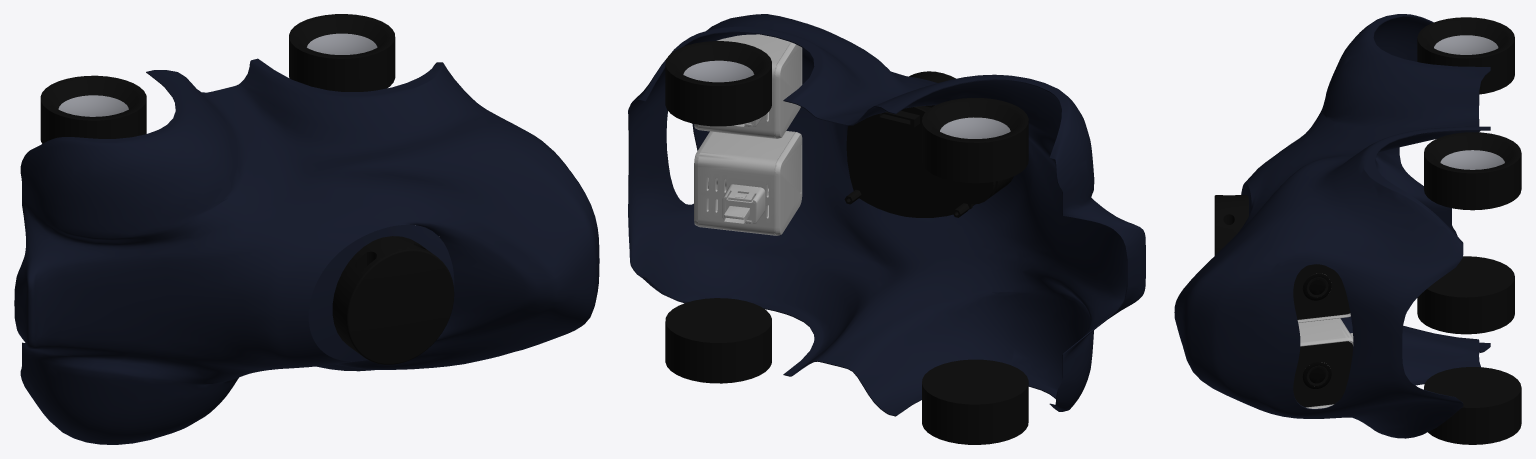
Rendered from deepracer.obj.
The picture shows the model from 3 angles, left to right: view 1: azimuth 30°, elevation 25°; view 2: azimuth 150°, elevation 25°; view 3: azimuth 270°, elevation 25°; orthographic projection. The views are drawn at different scales.
Parts seen in each view (by area): view 1: visual_0_shell, visual_0_laser, visual_0_left_front_wheel, visual_0_left_rear_wheel; view 2: visual_0_shell, visual_0_zed_camera_link_rightcam, visual_0_laser, visual_0_right_front_wheel, visual_0_right_rear_wheel, visual_0_left_front_wheel, visual_0_left_rear_wheel, visual_0_zed_camera_link_leftcam; view 3: visual_0_shell, visual_0_left_front_wheel, visual_0_right_rear_wheel, visual_0_right_front_wheel, visual_0_left_rear_wheel, visual_0_zed_camera_link_rightcam, visual_0_zed_camera_link_leftcam, visual_0_laser.
Part boxes in pixels (x1=…): visual_0_shell: x1=14, y1=58, x2=599, y2=444; visual_0_laser: x1=332, y1=224, x2=454, y2=364; visual_0_left_front_wheel: x1=289, y1=14, x2=395, y2=91; visual_0_left_rear_wheel: x1=40, y1=75, x2=146, y2=143; visual_0_shell: x1=628, y1=14, x2=1145, y2=416; visual_0_zed_camera_link_rightcam: x1=694, y1=131, x2=802, y2=235; visual_0_laser: x1=844, y1=71, x2=1013, y2=217; visual_0_right_front_wheel: x1=665, y1=298, x2=771, y2=383; visual_0_right_rear_wheel: x1=922, y1=359, x2=1028, y2=444; visual_0_left_front_wheel: x1=665, y1=41, x2=771, y2=126; visual_0_left_rear_wheel: x1=922, y1=98, x2=1028, y2=183; visual_0_zed_camera_link_leftcam: x1=694, y1=34, x2=802, y2=138; visual_0_shell: x1=1174, y1=14, x2=1490, y2=438; visual_0_left_front_wheel: x1=1424, y1=132, x2=1521, y2=210; visual_0_right_rear_wheel: x1=1417, y1=256, x2=1514, y2=334; visual_0_right_front_wheel: x1=1424, y1=367, x2=1521, y2=444; visual_0_left_rear_wheel: x1=1417, y1=17, x2=1514, y2=94; visual_0_zed_camera_link_rightcam: x1=1293, y1=318, x2=1353, y2=408; visual_0_zed_camera_link_leftcam: x1=1293, y1=264, x2=1350, y2=322; visual_0_laser: x1=1214, y1=195, x2=1248, y2=255.
Bounding box in the file's own units: 0.3242 × 0.1877 × 0.2133.
